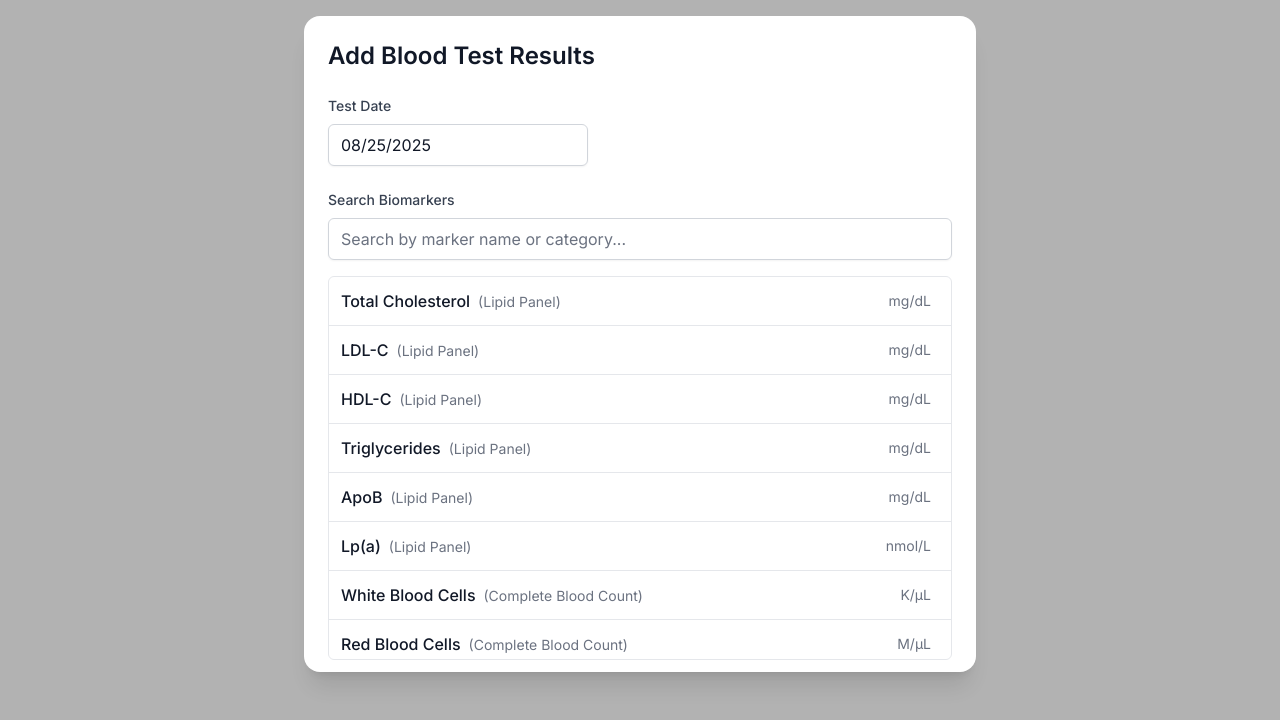
AddResultsModal › shows no markers found message
In the field with placeholder "Search by marker name or category...": (640, 239) [328, 218, 952, 260], type "nonexistent"
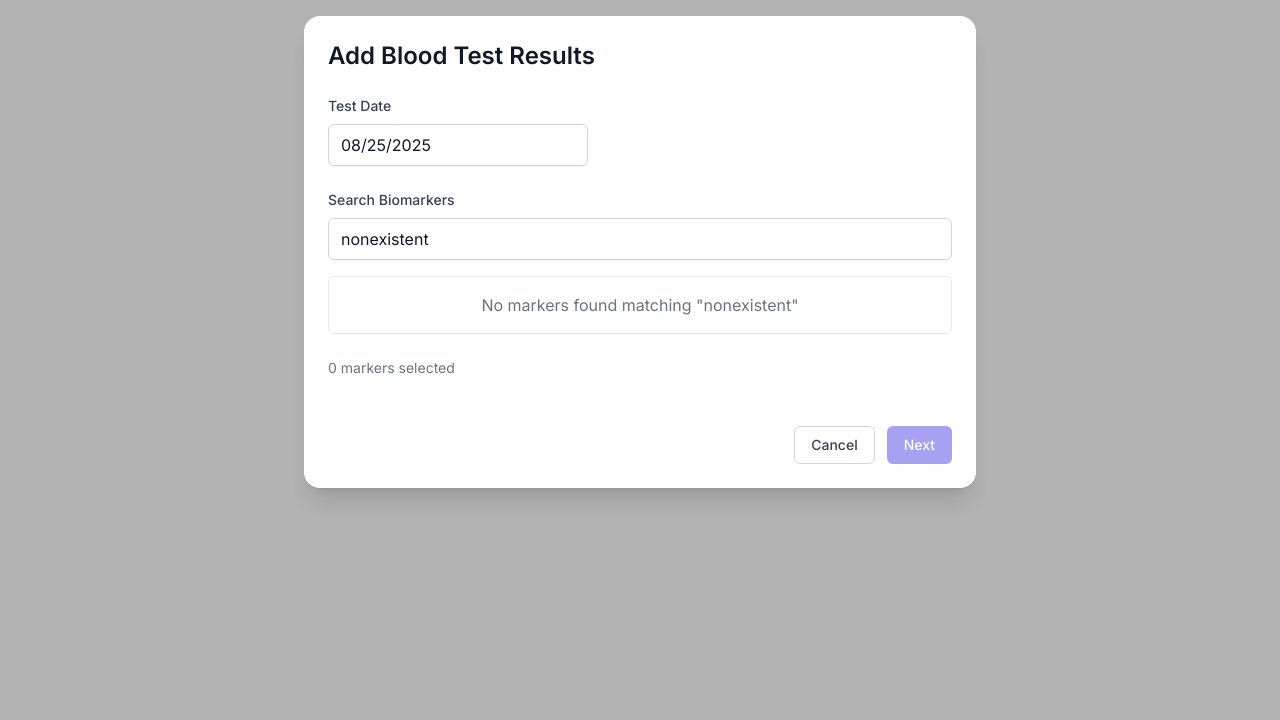
Check: the text "No markers found matching \"nonexistent\"" is shown, box [481, 295, 799, 315]
